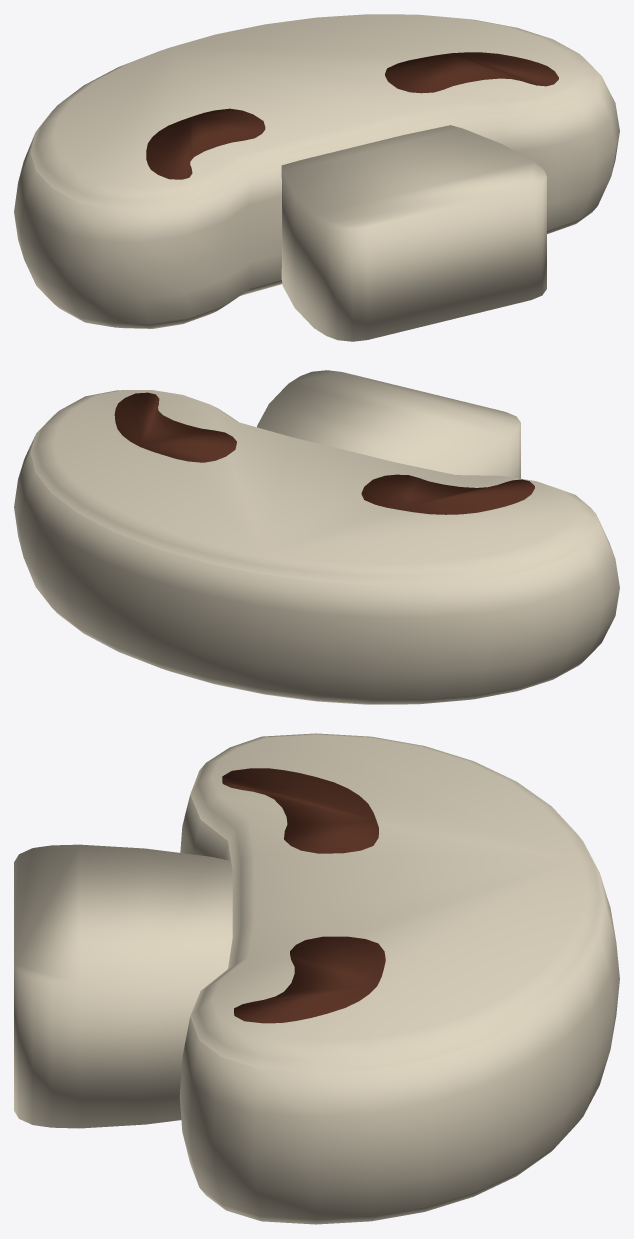
The model's file is slice_mushroom.fbx.
3 renders of one model, top to bottom at view 1: azimuth 30°, elevation 25°; view 2: azimuth 150°, elevation 25°; view 3: azimuth 270°, elevation 25°, orthographic. The views are drawn at different scales.
Visible parts, largest first — view 1: Mushroom, Cube.001, Circle.001; view 2: Mushroom, Cube.001, Circle.001; view 3: Mushroom, Cube.001, Circle.001.
Boxes of the visible parts, x1=… form: Mushroom: x1=14, y1=14, x2=619, y2=328; Cube.001: x1=281, y1=125, x2=546, y2=341; Circle.001: x1=146, y1=52, x2=558, y2=179; Mushroom: x1=14, y1=390, x2=619, y2=704; Cube.001: x1=257, y1=370, x2=520, y2=478; Circle.001: x1=114, y1=392, x2=534, y2=514; Mushroom: x1=179, y1=733, x2=619, y2=1224; Cube.001: x1=14, y1=844, x2=232, y2=1128; Circle.001: x1=222, y1=768, x2=385, y2=1023.
Size of the model in its own units: 446 by 109 by 322.
